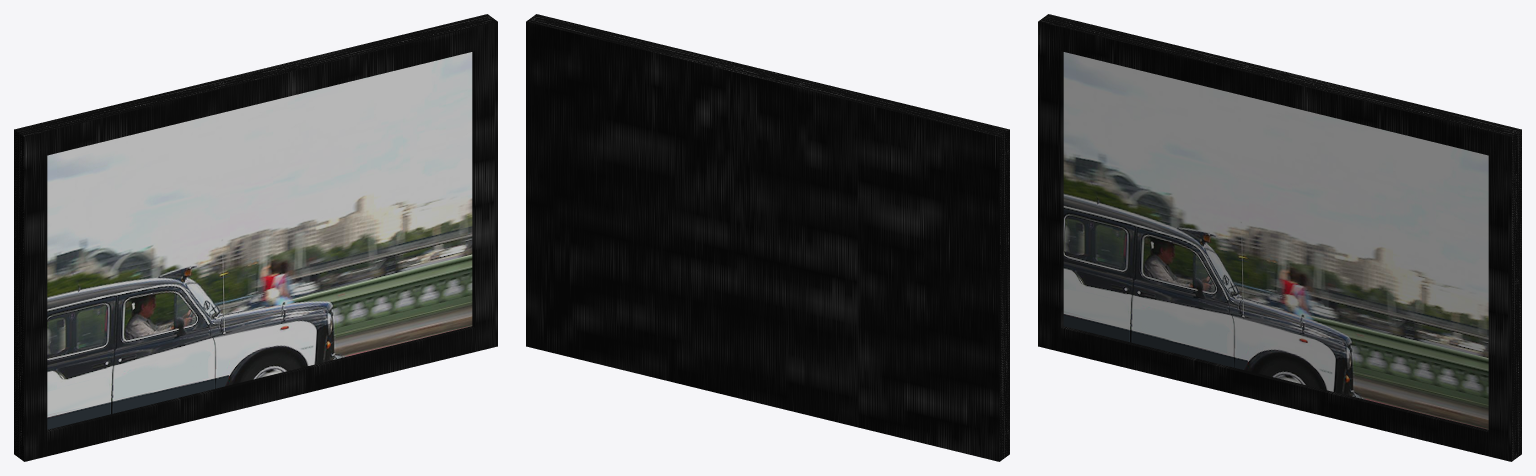
The model's file is picture_4.fbx.
3 renders of one model, left to right at view 1: azimuth 30°, elevation 25°; view 2: azimuth 150°, elevation 25°; view 3: azimuth 330°, elevation 25°, orthographic.
Parts seen in each view (by area): view 1: picture_4; view 2: picture_4; view 3: picture_4.
Boxes of the visible parts, <box> form: picture_4: <box>14,14,497,461</box>; picture_4: <box>526,14,1009,461</box>; picture_4: <box>1038,14,1521,461</box>.
Bounding box in the file's own units: 0.9241 × 0.6061 × 0.035.
